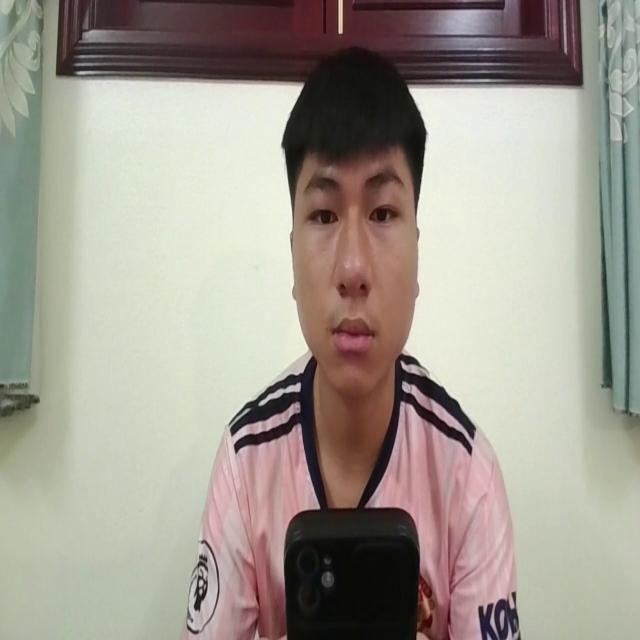phone: (281, 498, 425, 640)
student: (194, 42, 518, 640)
